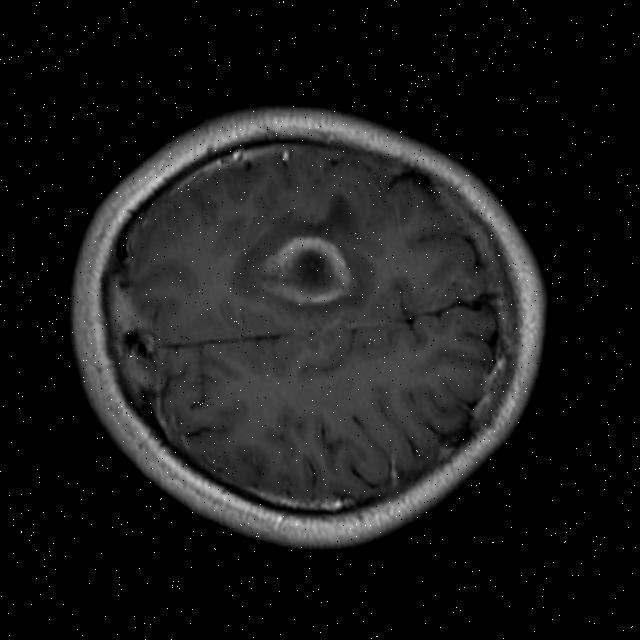Glioma: (252, 232, 361, 308)
